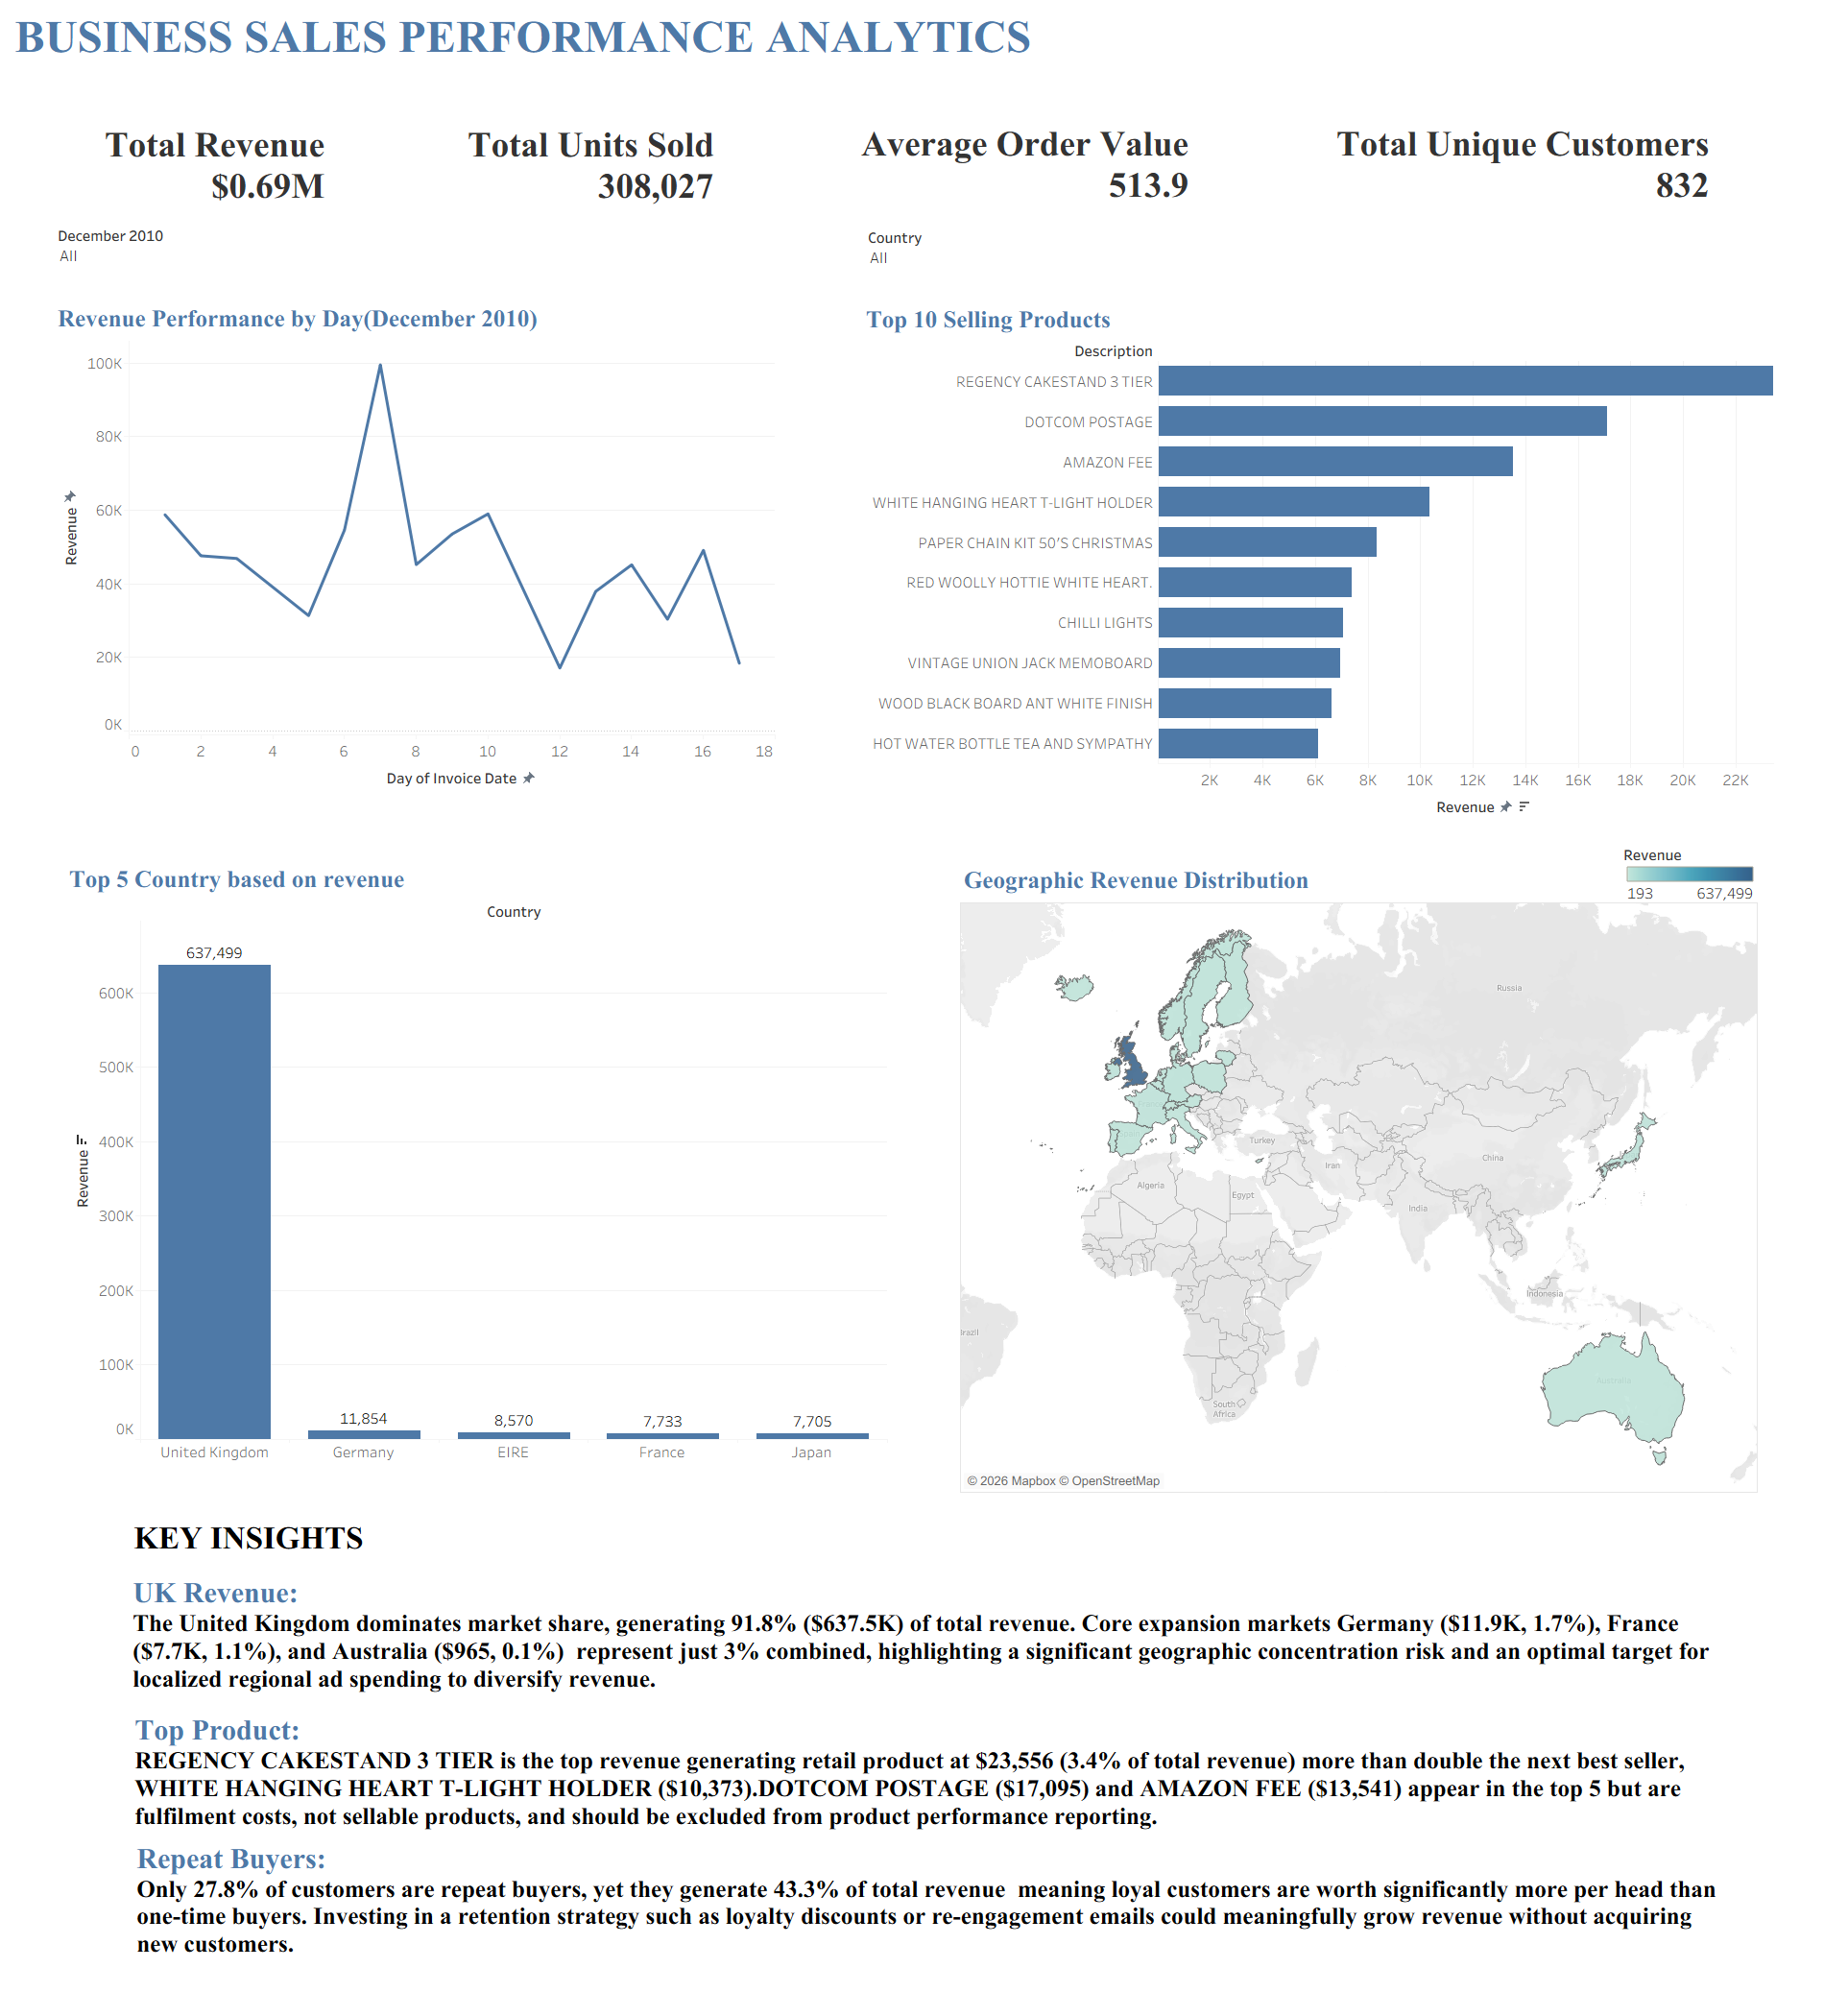

The dashboard page shown, as its layout file describes it:
{"tool":"tableau","page":{"name":"Dashboard 1","canvas":[1900,2100],"ordinal":0},"visuals":[{"type":"title","box":[8,8,1884,105]},{"type":"worksheet","title":"Sheet 3","mark":"Automatic","box":[883,115,421,299]},{"type":"worksheet","title":"Sheet 4","mark":"Automatic","box":[1385,115,436,346]},{"type":"worksheet","title":"Sheet 1","mark":"Automatic","box":[103,116,298,348]},{"type":"worksheet","title":"Sheet 2","mark":"Automatic","box":[468,116,353,368]},{"type":"filter","title":"Sheet 5","param":"[federated.0m8ysqd1lhs8id1afu5eq18b86sk].[dy:InvoiceDate:ok]","box":[60,234,662,74]},{"type":"filter","title":"Sheet 7","param":"[federated.0m8ysqd1lhs8id1afu5eq18b86sk].[none:Country:nk]","box":[904,236,939,72]},{"type":"worksheet","title":"Sheet 5","mark":"Automatic","rows":["Revenue"],"cols":["InvoiceDate"],"box":[56,312,751,516]},{"type":"worksheet","title":"Sheet 6","mark":"Automatic","rows":["Description"],"cols":["Revenue"],"box":[898,313,949,545]},{"type":"legend","title":"Sheet 7","param":"[federated.0m8ysqd1lhs8id1afu5eq18b86sk].[sum:Revenue:qk]","box":[1691,876,140,70]},{"type":"worksheet","title":"Sheet 8","mark":"Automatic","rows":["Revenue"],"cols":["Country"],"box":[68,896,856,643]},{"type":"worksheet","title":"Sheet 7","mark":"Multipolygon","box":[1000,897,831,658]},{"type":"text","box":[47,1603,864,270]},{"type":"text","box":[954,1617,906,256]},{"type":"text","box":[399,1903,997,178]}]}

Visuals, with their boxes in screenshot pixels (x1, y1, x2, y2), scaled from the page's 1900x2100 canvas onto the 1824x2016 screenshot:
title: <box>8,8,1816,108</box>
"Sheet 3" worksheet: <box>848,110,1252,397</box>
"Sheet 4" worksheet: <box>1330,110,1748,443</box>
"Sheet 1" worksheet: <box>99,111,385,445</box>
"Sheet 2" worksheet: <box>449,111,788,465</box>
"Sheet 5" filter: <box>58,225,693,296</box>
"Sheet 7" filter: <box>868,227,1769,296</box>
"Sheet 5" worksheet: <box>54,300,775,795</box>
"Sheet 6" worksheet: <box>862,300,1773,824</box>
"Sheet 7" legend: <box>1623,841,1758,908</box>
"Sheet 8" worksheet: <box>65,860,887,1477</box>
"Sheet 7" worksheet (Multipolygon marks): <box>960,861,1758,1493</box>
text: <box>45,1539,875,1798</box>
text: <box>916,1552,1786,1798</box>
text: <box>383,1827,1340,1998</box>
